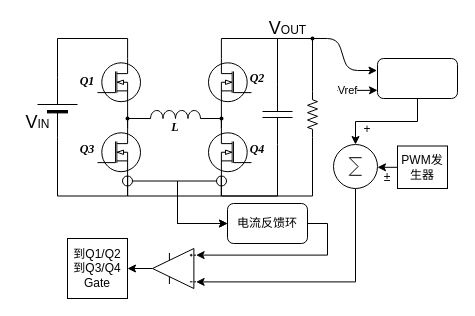
Some shapes in this 475 by 316 pixel diagram are drawn without their labels. The shapes that lost their labels are listed below. From the top down, each one's box as (x1, y1, x2, y2) in pixels, then its label:
(376, 58, 458, 98): 电压反馈环
(152, 248, 196, 288): 比较器
